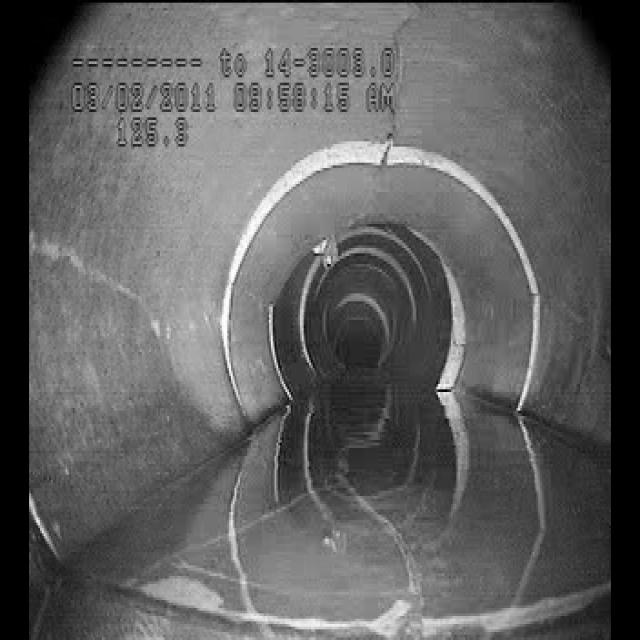Crack: (44, 222, 160, 336)
